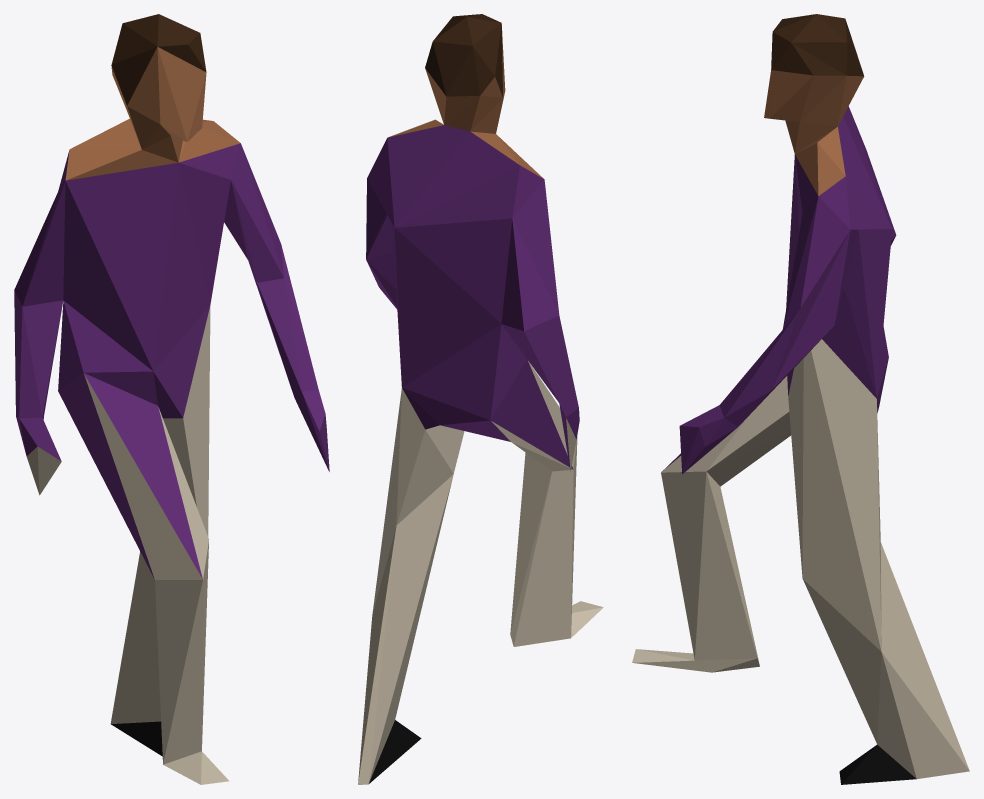
File: walker-18.glb
3 views of the same model, side by side, from view 1: azimuth 30°, elevation 25°; view 2: azimuth 150°, elevation 25°; view 3: azimuth 270°, elevation 25° (orthographic). The views are drawn at different scales.
Parts seen in each view (by area): view 1: Man08; view 2: Man08; view 3: Man08.
Part boxes in pixels (bbox=[...]): Man08: bbox=[14, 14, 329, 784]; Man08: bbox=[358, 14, 603, 784]; Man08: bbox=[632, 14, 969, 784].
Bounding box in the file's own units: 0.5939 × 1.77 × 0.7327.
